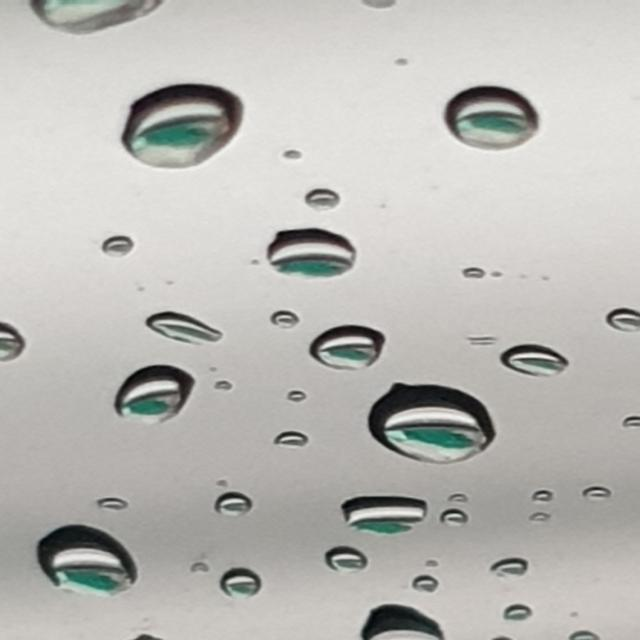raindrop: (72, 76, 260, 178), (362, 378, 506, 474), (8, 524, 156, 600), (436, 84, 556, 168), (104, 358, 204, 436), (249, 222, 380, 278), (333, 488, 441, 546), (136, 304, 238, 356), (28, 0, 160, 38), (300, 320, 384, 378), (347, 602, 462, 640), (494, 334, 578, 384), (58, 238, 136, 280), (258, 294, 316, 342), (316, 540, 389, 577), (591, 283, 640, 335), (247, 422, 313, 459), (290, 182, 350, 222), (204, 491, 258, 526), (432, 256, 490, 288), (220, 562, 270, 598), (429, 510, 486, 536), (259, 386, 315, 412), (582, 475, 626, 508), (486, 555, 531, 587), (404, 573, 448, 605), (484, 600, 542, 624), (267, 126, 305, 162), (514, 481, 568, 506), (84, 493, 134, 519), (0, 320, 29, 360), (444, 481, 474, 511), (193, 555, 224, 583), (605, 407, 640, 430), (524, 507, 558, 528), (217, 378, 244, 402)
